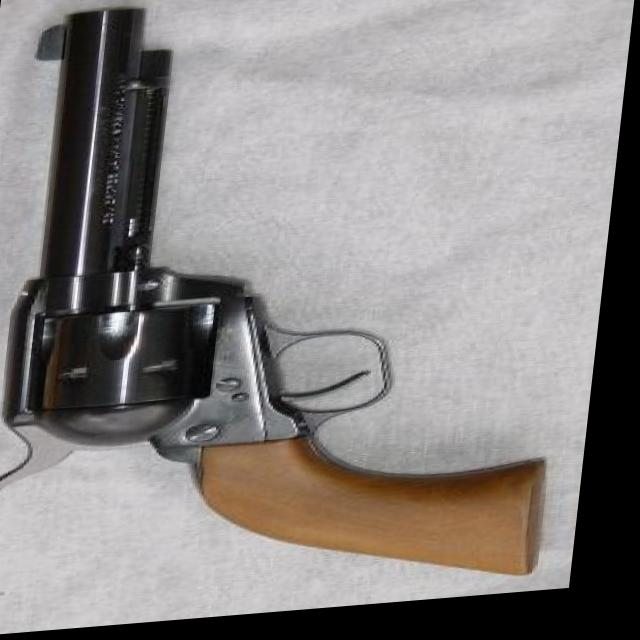handgun: (0, 0, 606, 622)
